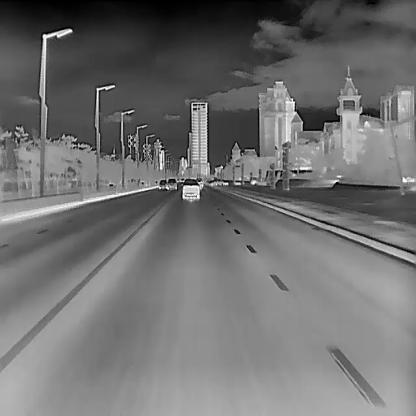car: (182, 178, 200, 200), (167, 176, 177, 191), (209, 178, 223, 186), (158, 180, 168, 189), (196, 176, 203, 188)
